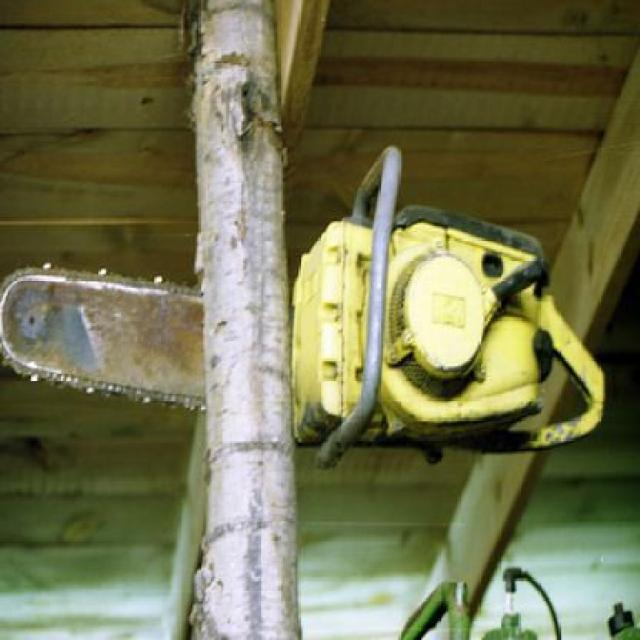Chainsaw: (2, 142, 610, 462)
